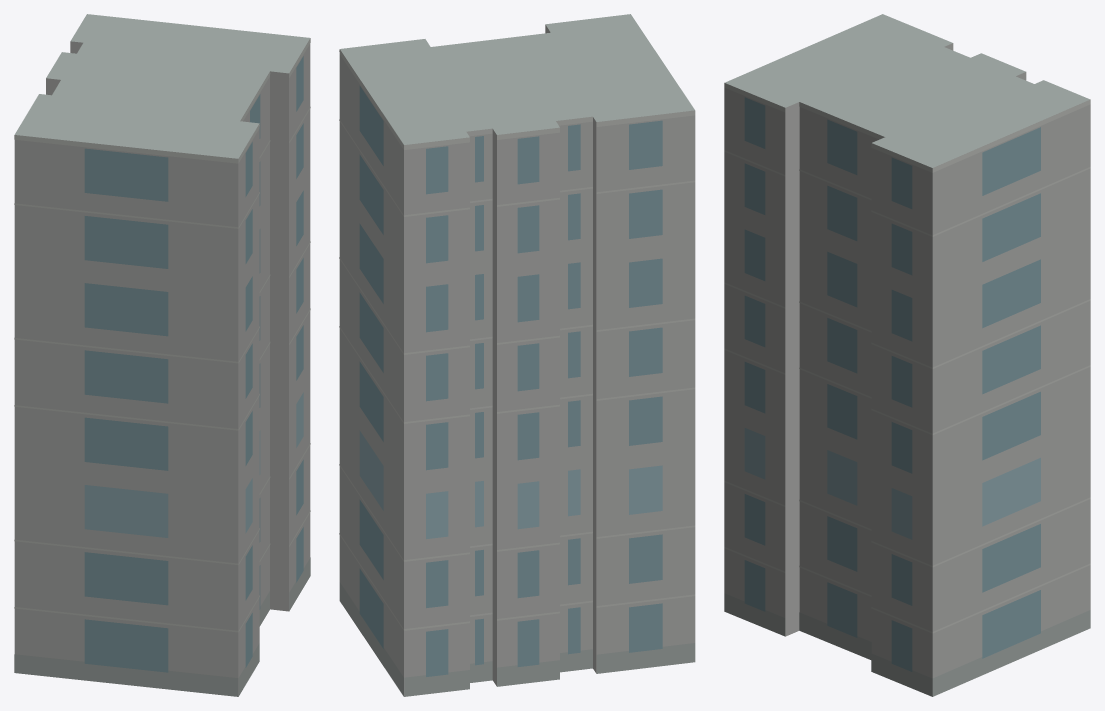
File: survey-upis-32882289.glb
The picture shows the model from 3 angles, left to right: view 1: azimuth 30°, elevation 25°; view 2: azimuth 150°, elevation 25°; view 3: azimuth 270°, elevation 25°; orthographic projection. The views are drawn at different scales.
Parts seen in each view (by area): view 1: survey-upis-32882289.tmp; view 2: survey-upis-32882289.tmp; view 3: survey-upis-32882289.tmp.
Part boxes in pixels (x1=…): survey-upis-32882289.tmp: x1=14, y1=14, x2=310, y2=696; survey-upis-32882289.tmp: x1=339, y1=14, x2=695, y2=696; survey-upis-32882289.tmp: x1=724, y1=14, x2=1090, y2=696.
Size of the model in its own units: 16.74 by 26.75 by 16.8.
